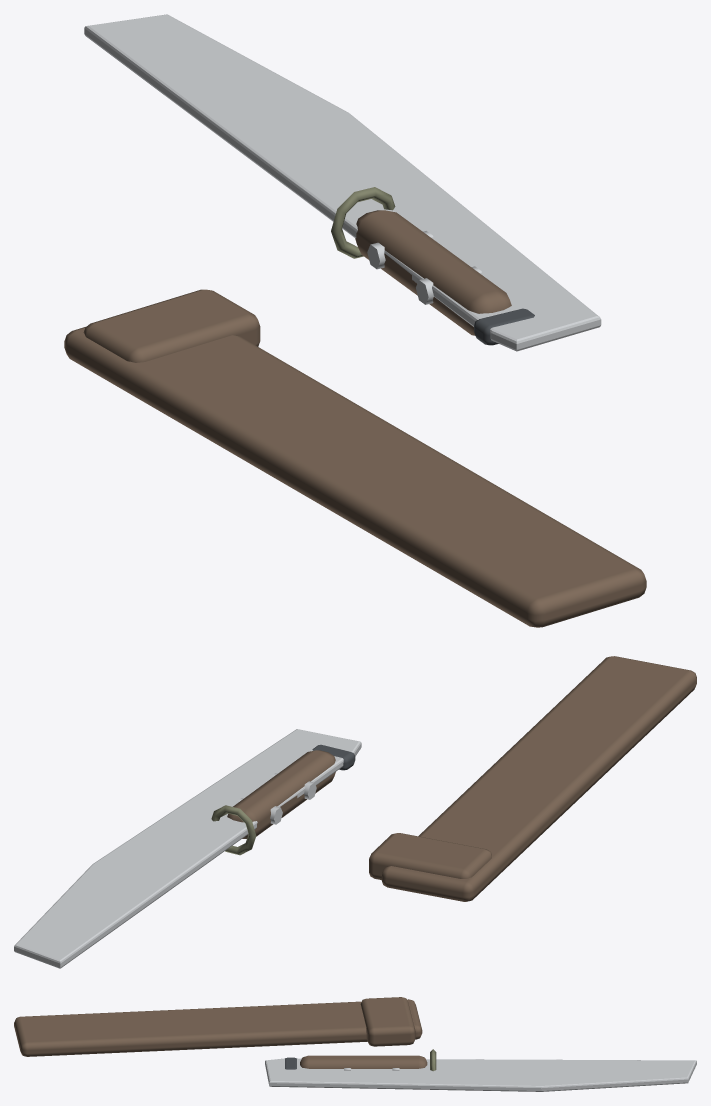
Rendered from fps-survival-forest-outpost-weapon-machete-3907750d__32657.glb.
3 renders of one model, top to bottom at view 1: azimuth 30°, elevation 25°; view 2: azimuth 150°, elevation 25°; view 3: azimuth 270°, elevation 25°, orthographic. The views are drawn at different scales.
Parts seen in each view (by area): view 1: weapon-machete; view 2: weapon-machete; view 3: weapon-machete.
Part boxes in pixels (<box>): weapon-machete: <box>64,14,646,627</box>; weapon-machete: <box>14,656,696,968</box>; weapon-machete: <box>14,997,696,1091</box>.
Size of the model in its own units: 0.297 by 0.0528 by 0.8447.
